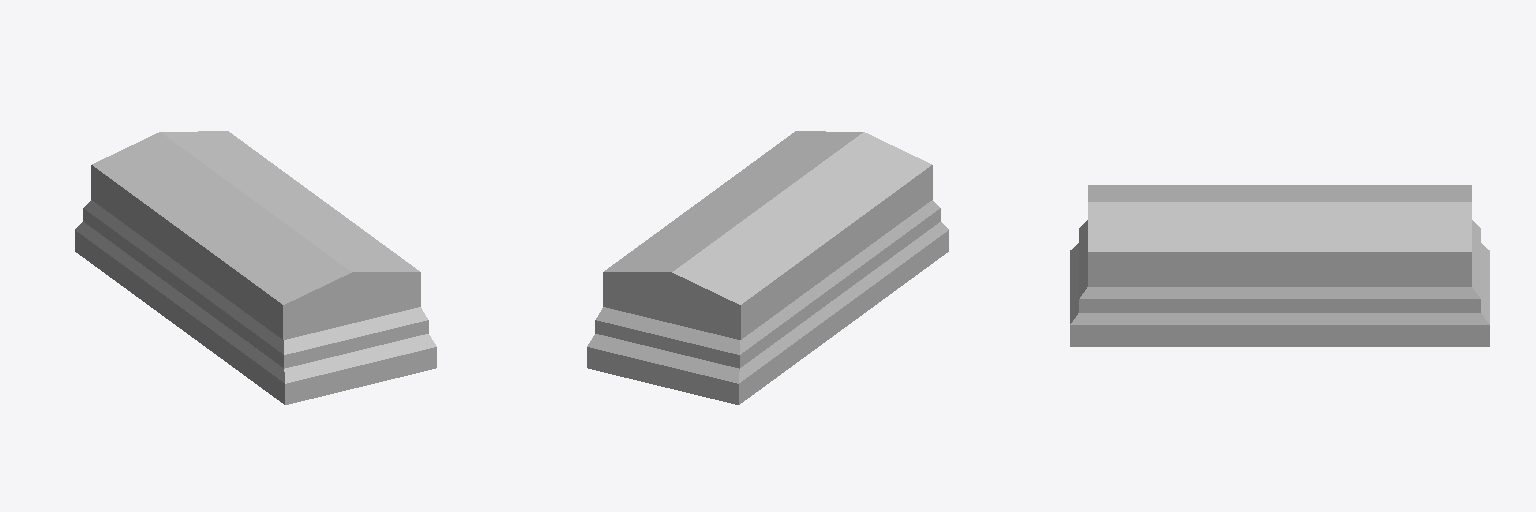
The model's file is gravestoneFlatOpen.obj.
The picture shows the model from 3 angles: view 1: azimuth 30°, elevation 25°; view 2: azimuth 150°, elevation 25°; view 3: azimuth 270°, elevation 25°; orthographic projection.
Visible parts, largest first — view 1: gravestoneFlatOpen, lid; view 2: gravestoneFlatOpen, lid; view 3: gravestoneFlatOpen, lid.
Boxes of the visible parts, x1=… form: gravestoneFlatOpen: x1=75, y1=171, x2=436, y2=404; lid: x1=91, y1=131, x2=420, y2=310; gravestoneFlatOpen: x1=587, y1=171, x2=948, y2=404; lid: x1=603, y1=131, x2=932, y2=310; gravestoneFlatOpen: x1=1070, y1=220, x2=1489, y2=346; lid: x1=1088, y1=185, x2=1471, y2=257.
Size of the model in its own units: 0.472 by 0.32 by 1.13.